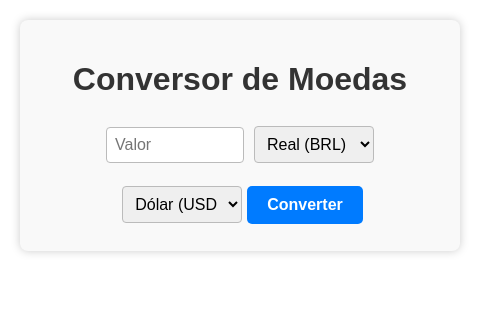
Scenario: Testes do Conversor de Moedas › 5 - Converte BRL para USD corretamente
The width and height of the screenshot is (481, 336).
Type "10" into the field with test id "input-amount". click: x=175, y=145
box: [106,127,244,163]
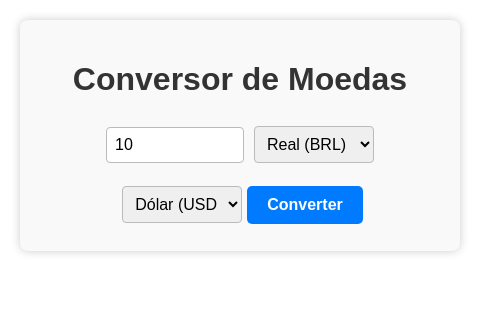
Select "Real (BRL)" in the dropdown with test id "select-from". click: x=314, y=145
box: [254,126,374,163]
Select "Dólar (USD)" in the dropdown with test id "select-to". click: x=182, y=205
box: [122,186,242,223]
Click the button with test id "btn-convert". click: x=305, y=205
box: [247,186,363,224]
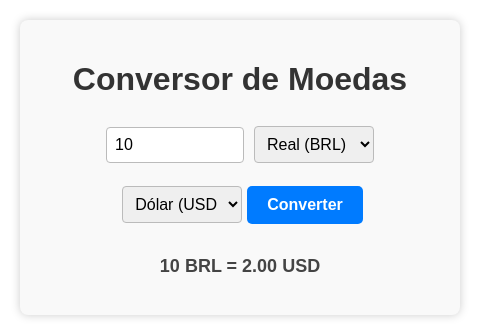
Now the text with test id "result" reads "10 BRL = 2.00 USD", box [160,256,320,276]
